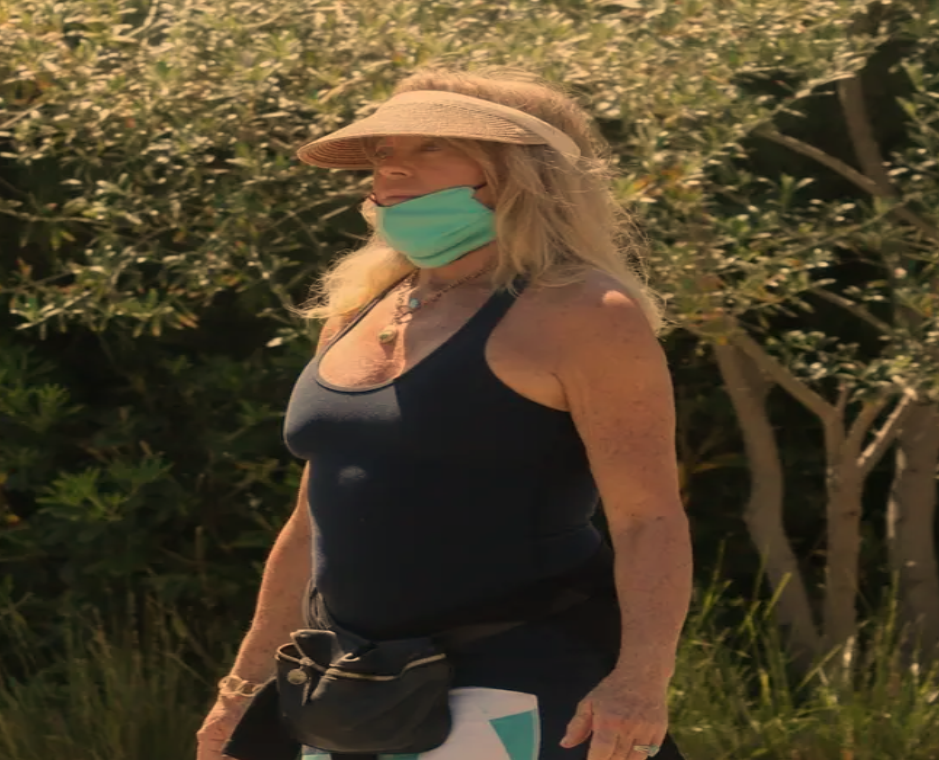mask_weared_incorrect: (311, 72, 596, 275)
